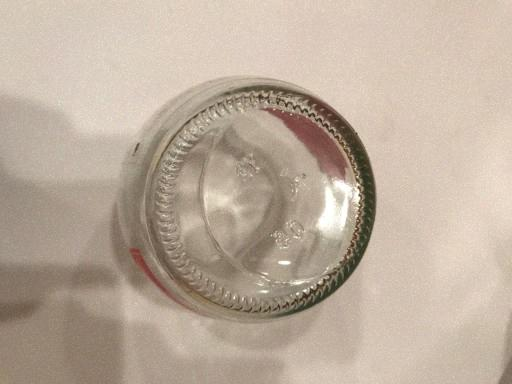glass: (125, 75, 378, 322)
